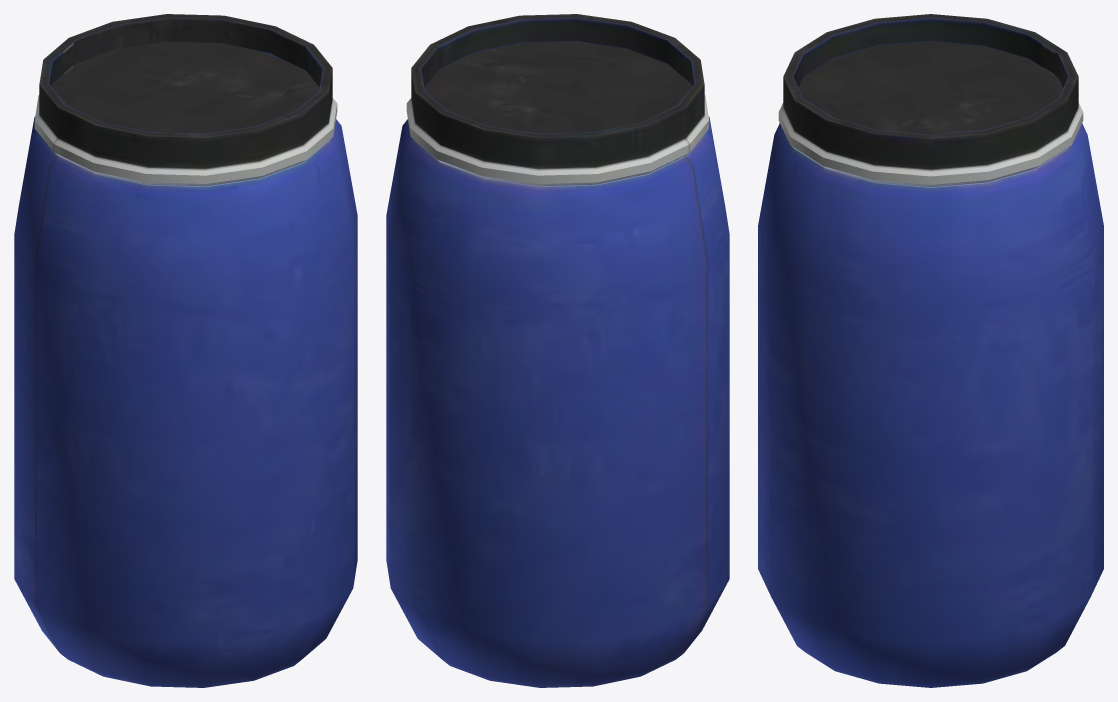
Rendered from waterbarrel.glb.
3 views of the same model, side by side, from view 1: azimuth 30°, elevation 25°; view 2: azimuth 150°, elevation 25°; view 3: azimuth 270°, elevation 25° (orthographic).
Visible parts, largest first — view 1: Water_Barrel; view 2: Water_Barrel; view 3: Water_Barrel.
Part boxes in pixels (box(x1,y1,x2,y2)): Water_Barrel: box(14, 14, 357, 687); Water_Barrel: box(386, 14, 729, 687); Water_Barrel: box(758, 14, 1103, 687).
Size of the model in its own units: 0.4542 by 0.803 by 0.4542.
1 material, 1 textured.
